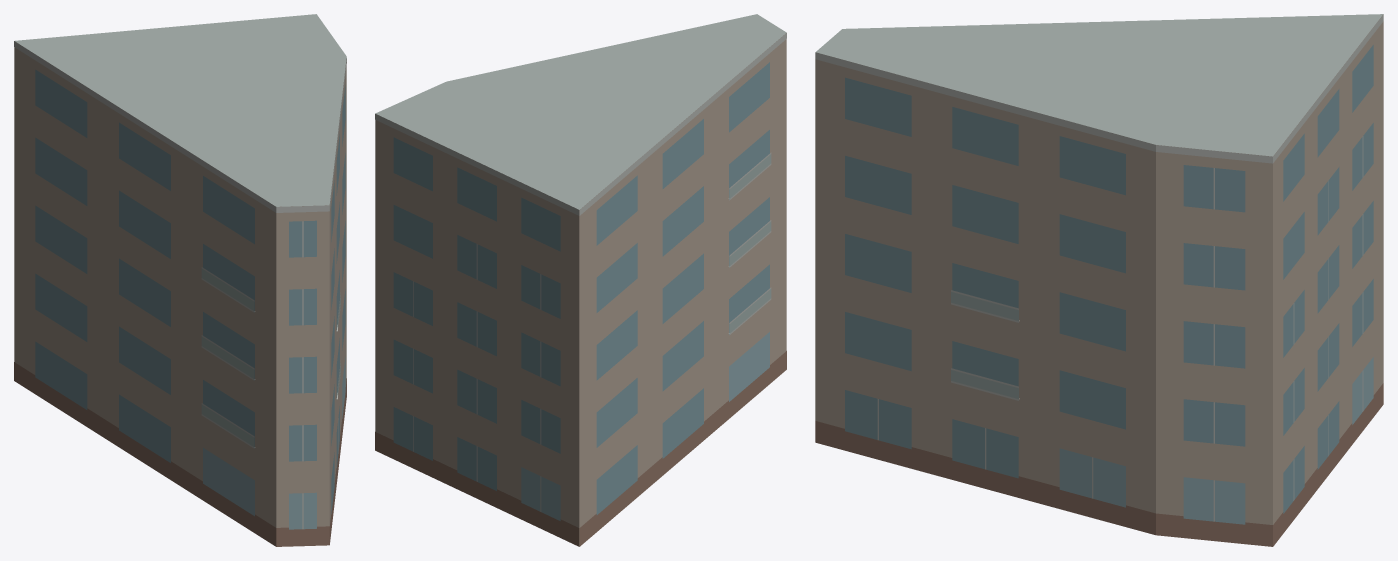
The model's file is survey-upis-33003097.glb.
3 views of the same model, side by side, from view 1: azimuth 30°, elevation 25°; view 2: azimuth 150°, elevation 25°; view 3: azimuth 270°, elevation 25° (orthographic). The views are drawn at different scales.
Parts seen in each view (by area): view 1: survey-upis-33003097.tmp; view 2: survey-upis-33003097.tmp; view 3: survey-upis-33003097.tmp.
Part boxes in pixels (x1,y1,x2,y2): survey-upis-33003097.tmp: [14, 14, 346, 546]; survey-upis-33003097.tmp: [375, 14, 786, 546]; survey-upis-33003097.tmp: [815, 14, 1383, 546].
Size of the model in its own units: 10.58 by 13.5 by 17.82.
